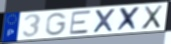3: (22, 13, 43, 39)
E: (68, 10, 92, 36)
G: (45, 12, 68, 36)
X: (115, 5, 142, 33), (140, 4, 165, 31), (92, 8, 117, 34)
